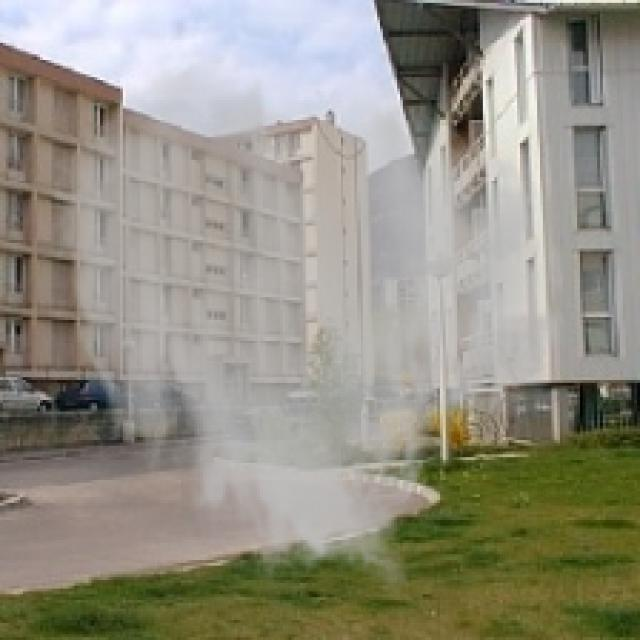Smoke: (49, 54, 572, 597)
